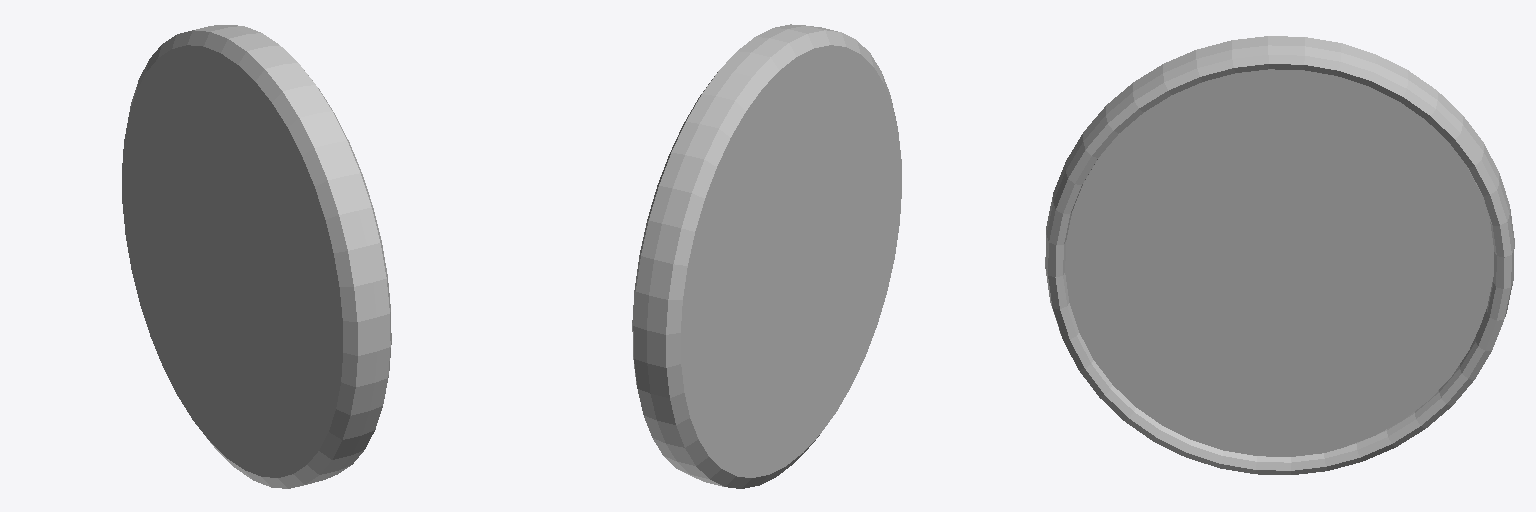
Rendered from Clock_obj.obj.
3 renders of one model, left to right at view 1: azimuth 30°, elevation 25°; view 2: azimuth 150°, elevation 25°; view 3: azimuth 270°, elevation 25°, orthographic.
Size of the model in its own units: 0.1152 by 1 by 1.